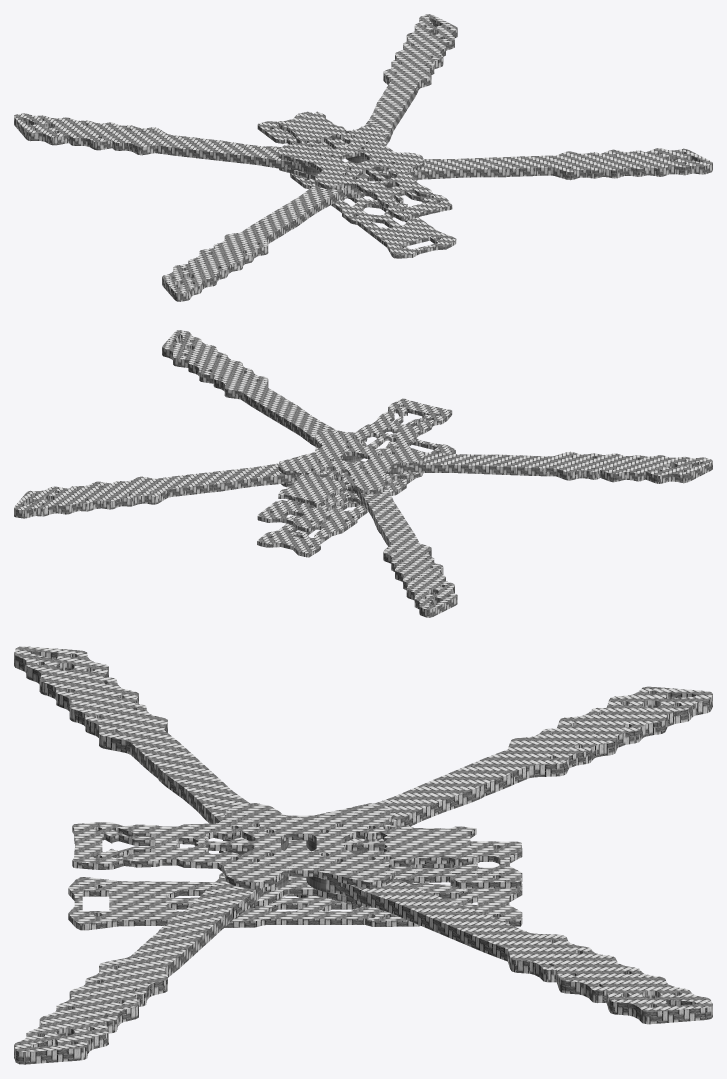
File: Kit.fbx
3 renders of one model, top to bottom at view 1: azimuth 30°, elevation 25°; view 2: azimuth 150°, elevation 25°; view 3: azimuth 270°, elevation 25°, orthographic. The views are drawn at different scales.
Parts seen in each view (by area): view 1: RD2 Open Stack Base.002, RD2 Long Top.001, RD2 Arm 01.005, RD2 Arm 01.004, RD2 Arm 01.002 355.6 mm, RD2 Arm 01.002, RD2 Arm 01.003, RD2 Arm 01.004 355.6 mm, RD2 Arm 01.005 304.8 mm, RD2 Arm 01.003 304.8 mm, RD2 Arm 01.005 355.6 mm, RD2 Arm 01.003 355.6 mm (+3 smaller); view 2: RD2 Open Stack Base.002, RD2 Arm 01.004, RD2 Long Top.001, RD2 Arm 01.003, RD2 Arm 01.005, RD2 Arm 01.002, RD2 Stack Base.002, RD2 Arm 01.005 304.8 mm, RD2 Arm 01.004 355.6 mm, RD2 Arm 01.003 355.6 mm, RD2 Arm 01.004 304.8 mm, RD2 Arm 01.002 304.8 mm (+3 smaller); view 3: RD2 Open Stack Base.002, RD2 Long Top.001, RD2 Arm 01.003, RD2 Arm 01.002, RD2 Arm 01.004, RD2 Arm 01.005, RD2 Arm 01.003 355.6 mm, RD2 Arm 01.005 355.6 mm, RD2 Arm 01.002 304.8 mm, RD2 Stack Base.002, RD2 Arm 01.002 355.6 mm, RD2 Arm 01.004 304.8 mm (+3 smaller).
Part boxes in pixels (box(x1,y1,x2,y2)): RD2 Open Stack Base.002: box(278, 111, 452, 221); RD2 Long Top.001: box(266, 146, 456, 258); RD2 Arm 01.005: box(373, 151, 622, 180); RD2 Arm 01.004: box(213, 173, 366, 265); RD2 Arm 01.002 355.6 mm: box(14, 113, 257, 157); RD2 Arm 01.002: box(101, 123, 319, 175); RD2 Arm 01.003: box(344, 51, 434, 163); RD2 Arm 01.004 355.6 mm: box(162, 197, 317, 301); RD2 Arm 01.005 304.8 mm: box(453, 149, 667, 178); RD2 Arm 01.003 304.8 mm: box(370, 32, 445, 122); RD2 Arm 01.005 355.6 mm: box(454, 148, 712, 176); RD2 Arm 01.003 355.6 mm: box(369, 14, 457, 121); RD2 Open Stack Base.002: box(278, 398, 452, 508); RD2 Arm 01.004: box(387, 451, 622, 480); RD2 Long Top.001: box(257, 439, 455, 557); RD2 Arm 01.003: box(101, 463, 338, 507); RD2 Arm 01.005: box(213, 361, 366, 462); RD2 Arm 01.002: box(344, 473, 434, 572); RD2 Stack Base.002: box(257, 447, 423, 532); RD2 Arm 01.005 304.8 mm: box(188, 346, 318, 426); RD2 Arm 01.004 355.6 mm: box(455, 455, 712, 483); RD2 Arm 01.003 355.6 mm: box(14, 467, 260, 518); RD2 Arm 01.004 304.8 mm: box(453, 453, 666, 482); RD2 Arm 01.002 304.8 mm: box(370, 501, 445, 591); RD2 Open Stack Base.002: box(72, 803, 476, 889); RD2 Long Top.001: box(68, 877, 522, 930); RD2 Arm 01.003: box(306, 876, 613, 982); RD2 Arm 01.002: box(306, 728, 613, 854); RD2 Arm 01.004: box(73, 700, 288, 854); RD2 Arm 01.005: box(74, 854, 288, 1006); RD2 Arm 01.003 355.6 mm: box(398, 891, 712, 1024); RD2 Arm 01.005 355.6 mm: box(14, 901, 229, 1064); RD2 Arm 01.002 304.8 mm: box(394, 708, 662, 807); RD2 Stack Base.002: box(219, 839, 522, 907); RD2 Arm 01.002 355.6 mm: box(394, 686, 712, 808); RD2 Arm 01.004 304.8 mm: box(44, 673, 230, 797).
Size of the model in its own units: 35.11 by 2.57 by 25.57.
